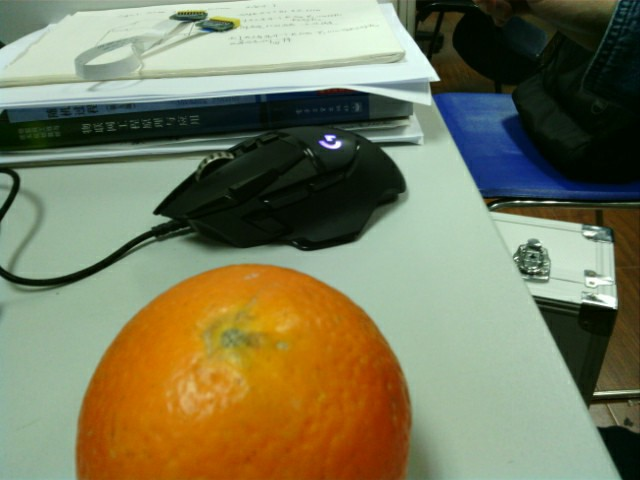normal_orange: (79, 261, 413, 480)
